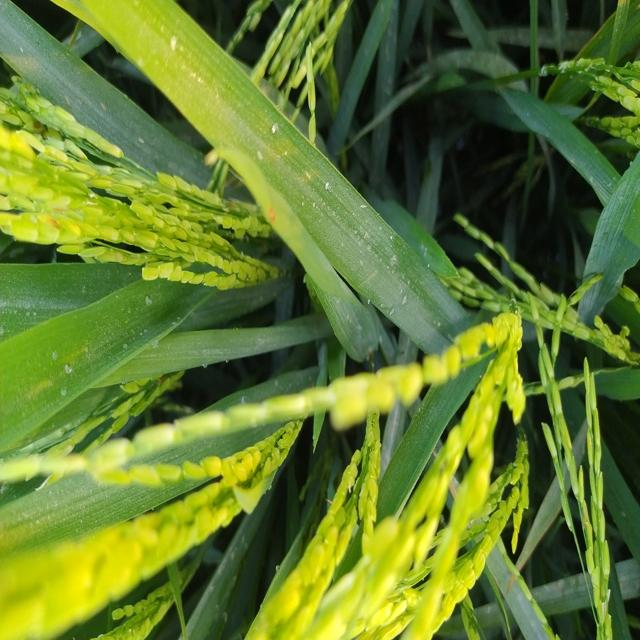insects: (264, 200, 286, 227)
